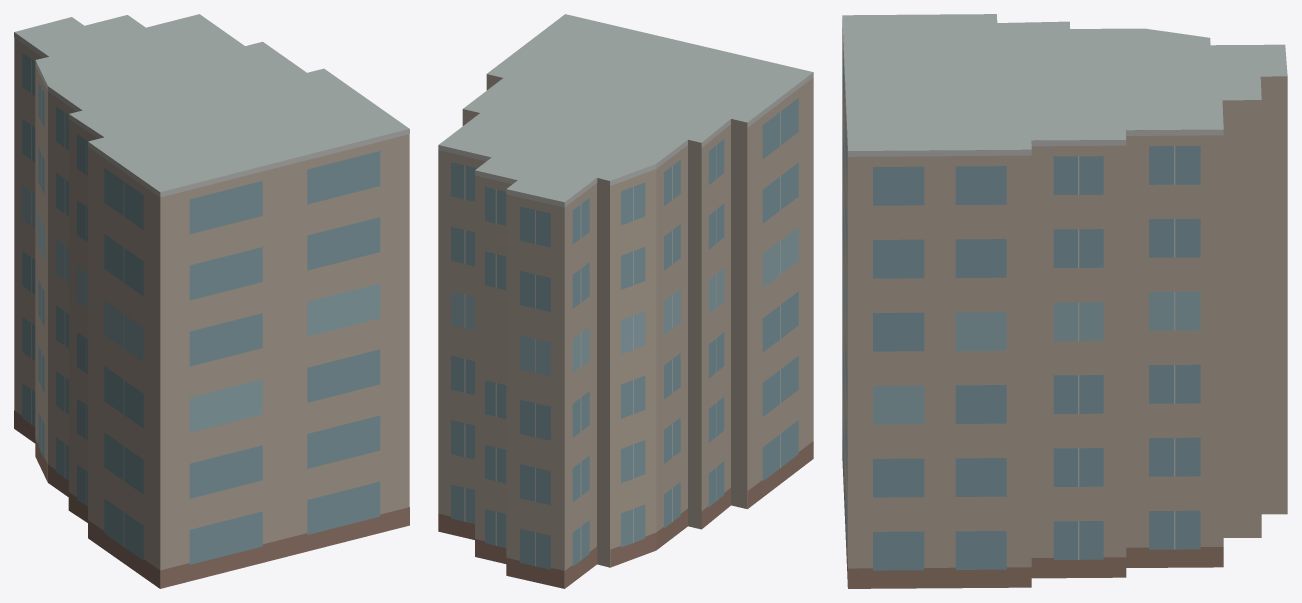
File: survey-upis-32536076.glb
3 views of the same model, side by side, from view 1: azimuth 30°, elevation 25°; view 2: azimuth 150°, elevation 25°; view 3: azimuth 270°, elevation 25° (orthographic). The views are drawn at different scales.
Parts seen in each view (by area): view 1: survey-upis-32536076.tmp; view 2: survey-upis-32536076.tmp; view 3: survey-upis-32536076.tmp.
Part boxes in pixels (x1,y1,x2,y2): survey-upis-32536076.tmp: (14,14,409,588); survey-upis-32536076.tmp: (438,14,813,588); survey-upis-32536076.tmp: (842,14,1287,588).
Bounding box in the file's own units: 12.29 × 18.3 × 16.88.
